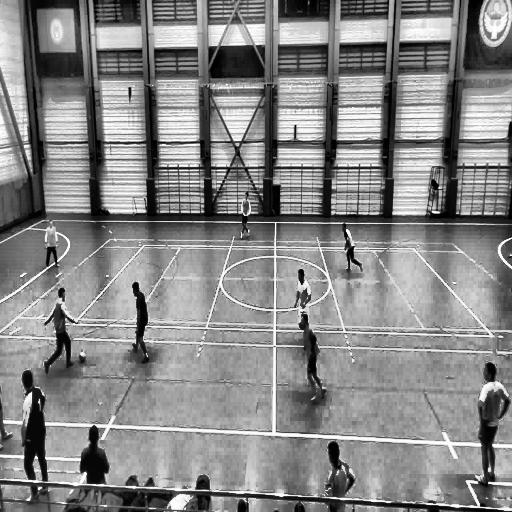ball: (79, 351, 86, 362)
player: (475, 362, 510, 483), (21, 372, 48, 498), (44, 286, 78, 373), (325, 441, 356, 511), (301, 313, 324, 403), (129, 279, 152, 363), (295, 268, 312, 329), (343, 223, 363, 273), (238, 190, 253, 238), (44, 219, 58, 268)
